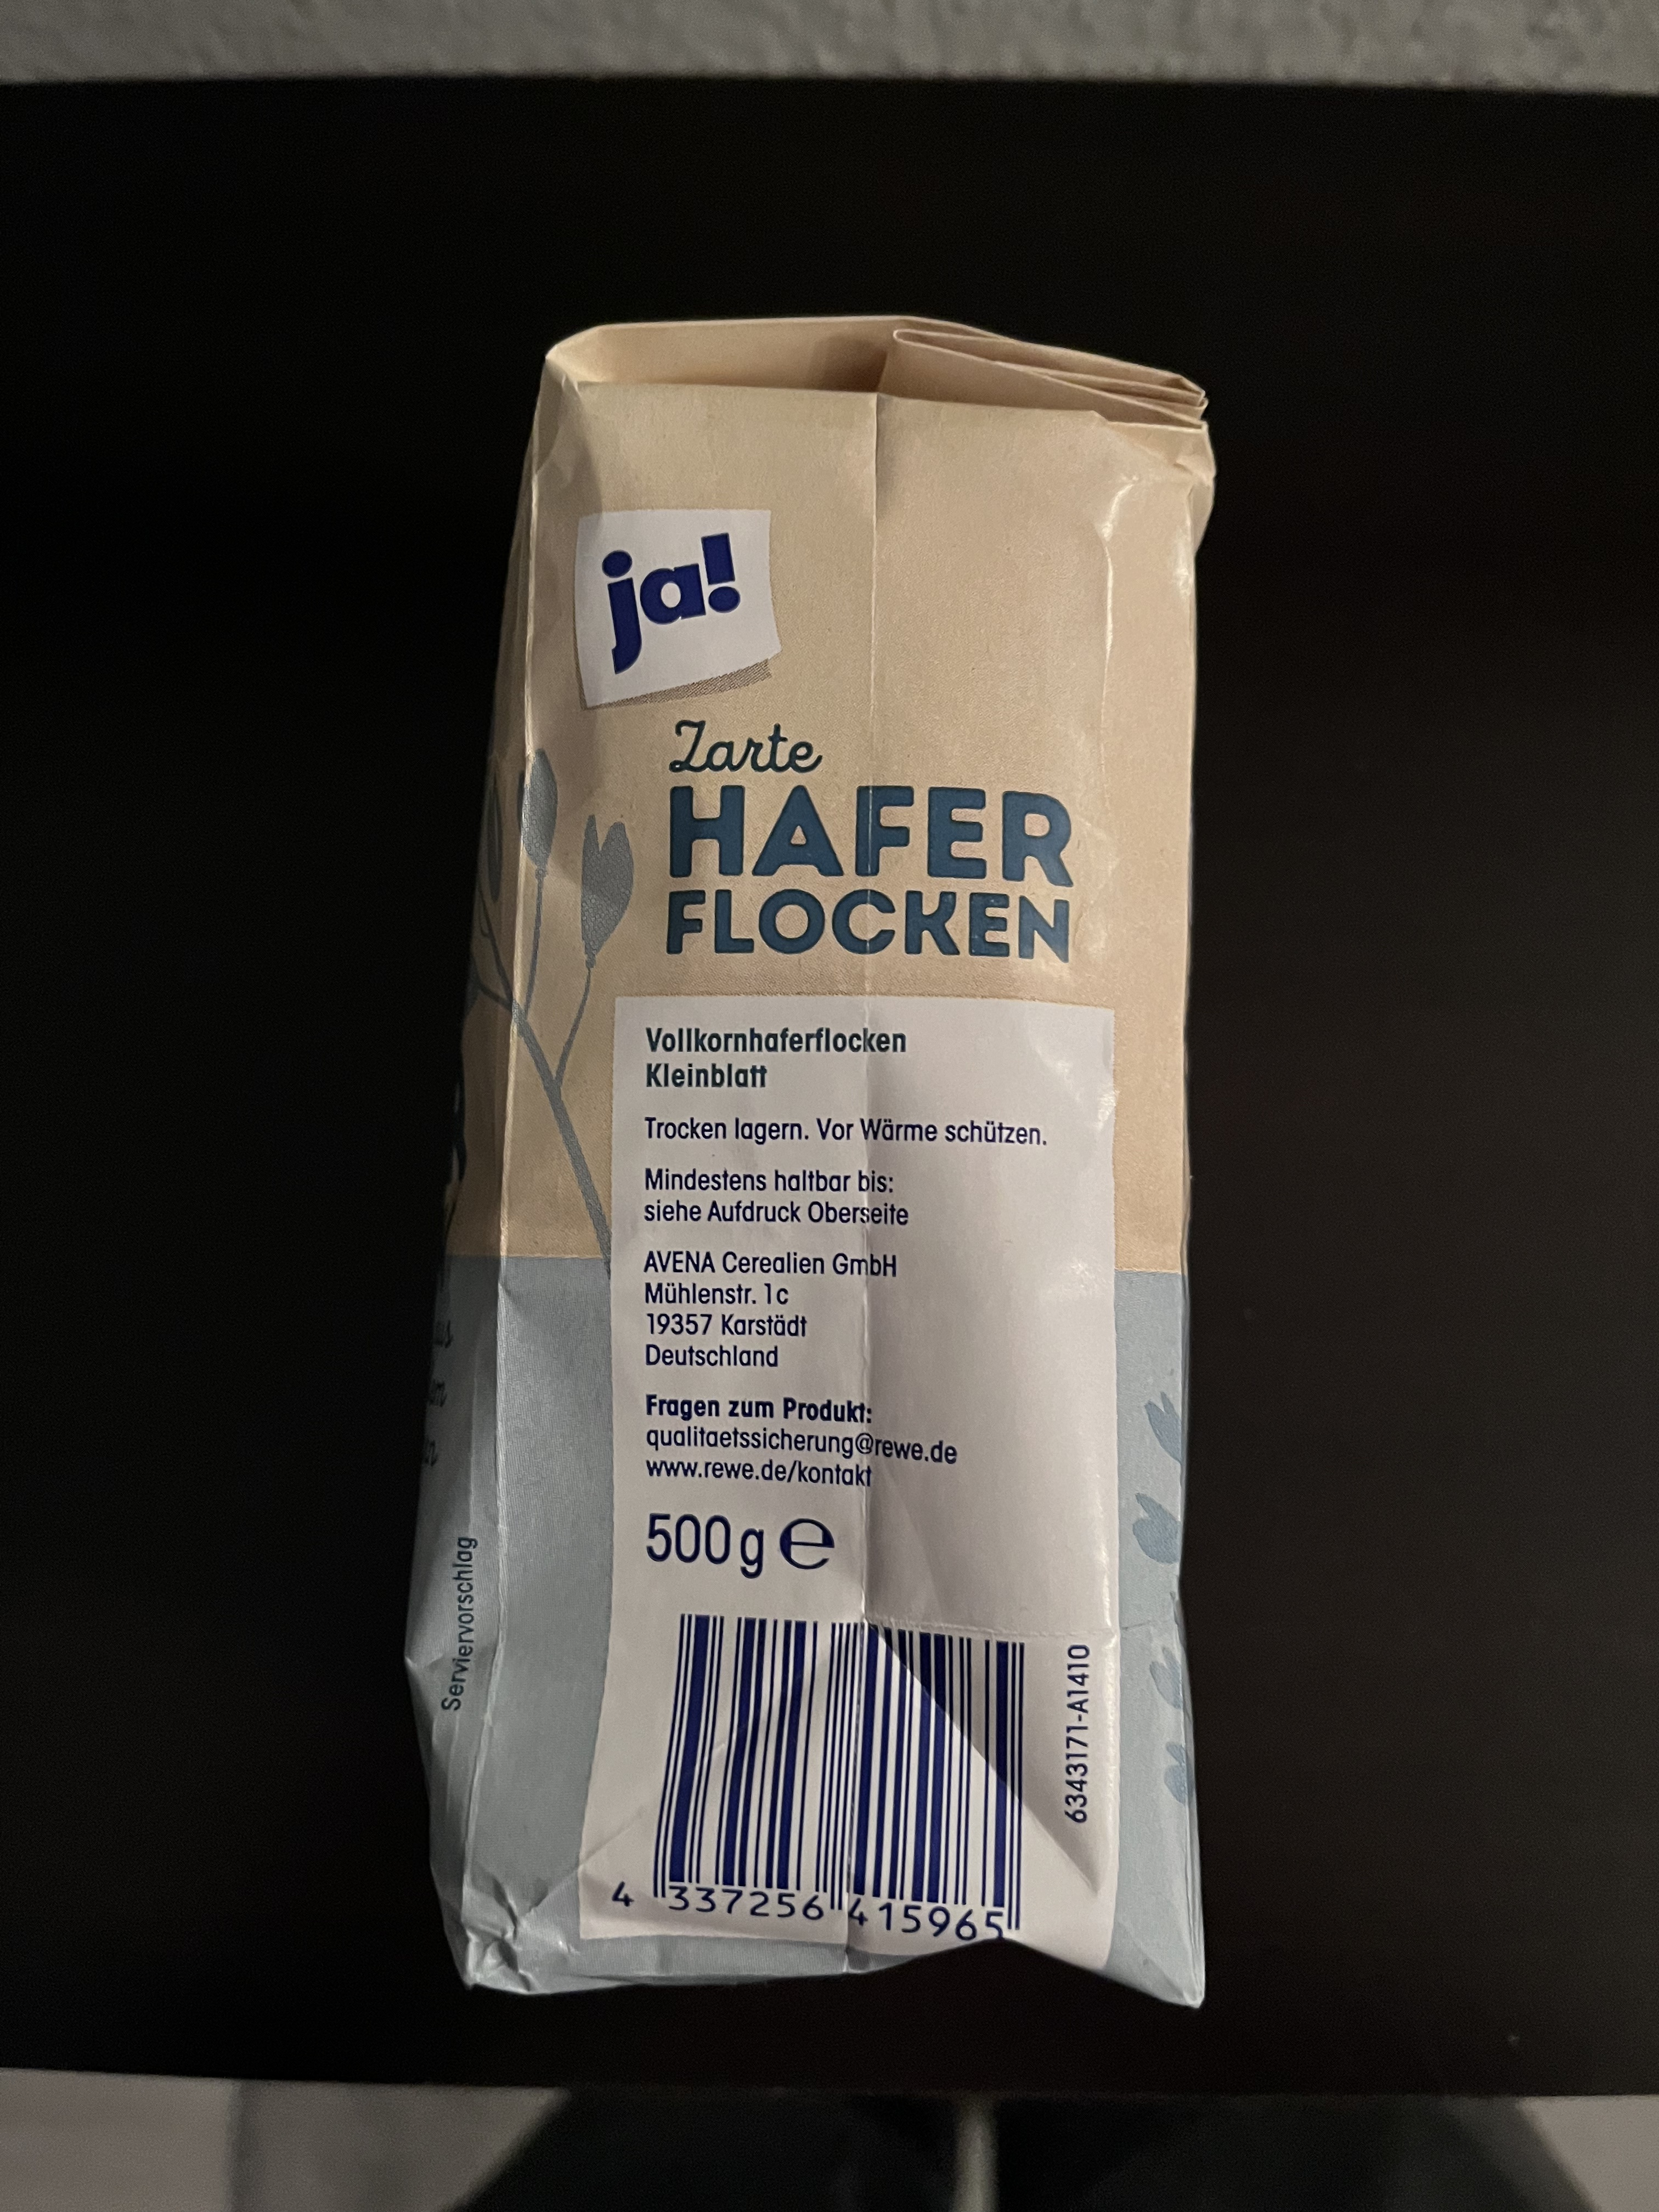haferflocken_ja: (390, 305, 1220, 2019)
